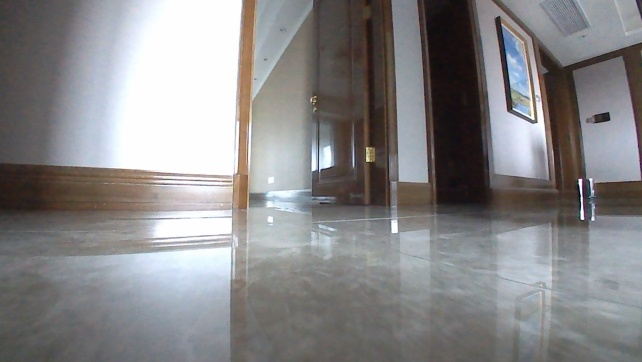door_anno: (307, 0, 383, 204)
